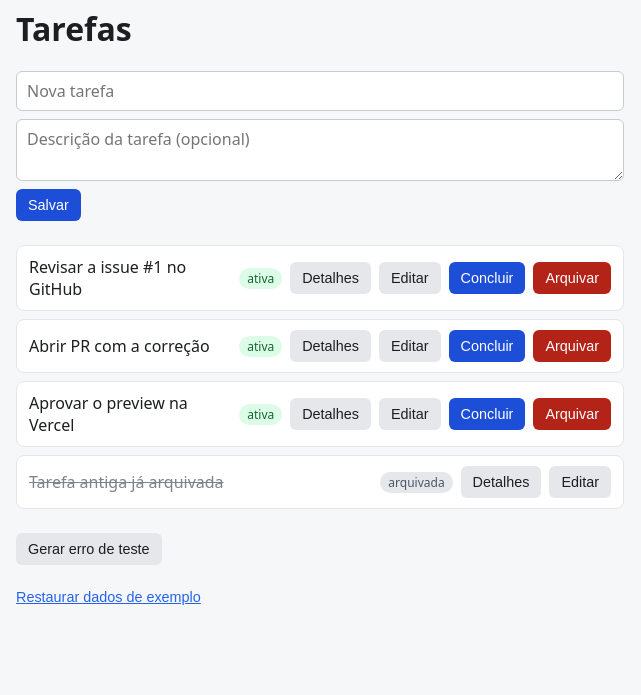
Test: Page › informa quando a tarefa não tem descrição e permite fechar os detalhes
This screenshot has width=641, height=695.
Click the button "Detalhes" in the row of "Aprovar o preview na Vercel" at coordinates (331, 414), box [290,398,371,430]
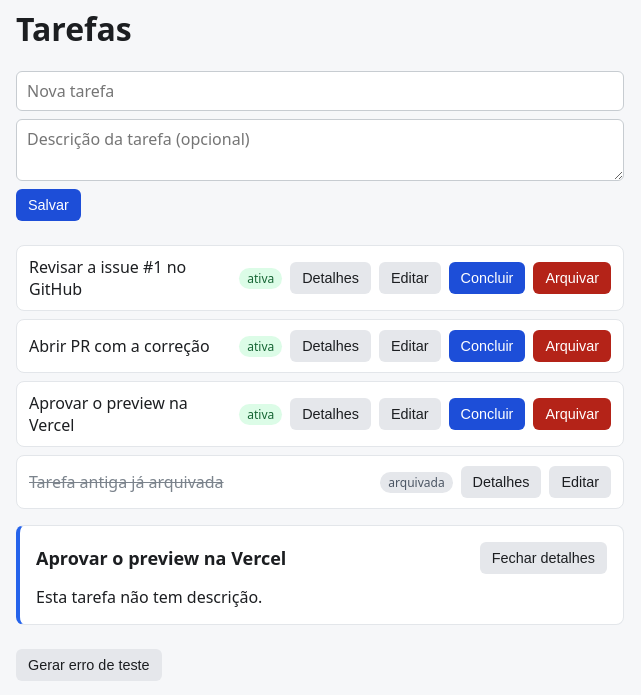
Now the text "Esta tarefa não tem descrição." is shown, box [36,586,262,608]
Click the button "Fechar detalhes" at coordinates (543, 558), box [480,542,607,574]
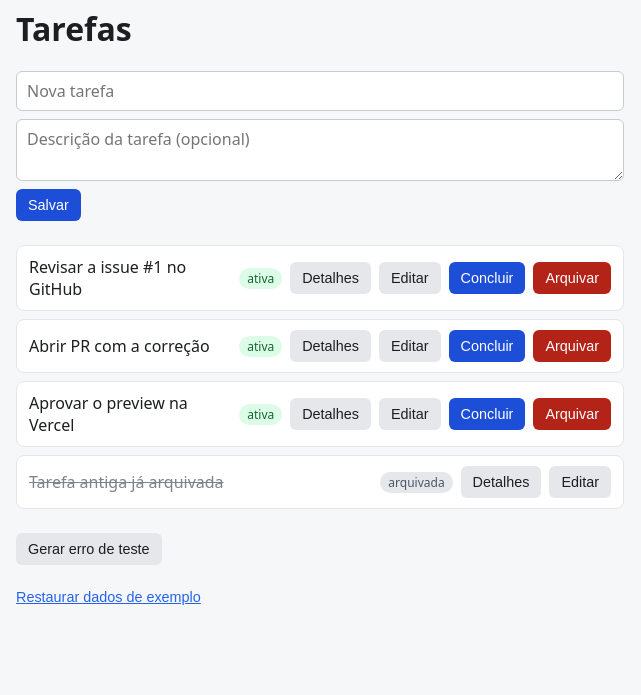
Expected: the number of list items is 4, [16,245,624,311]; [16,319,624,373]; [16,381,624,447]; [16,455,624,509]
Now the text "Esta tarefa não tem descrição." is gone
